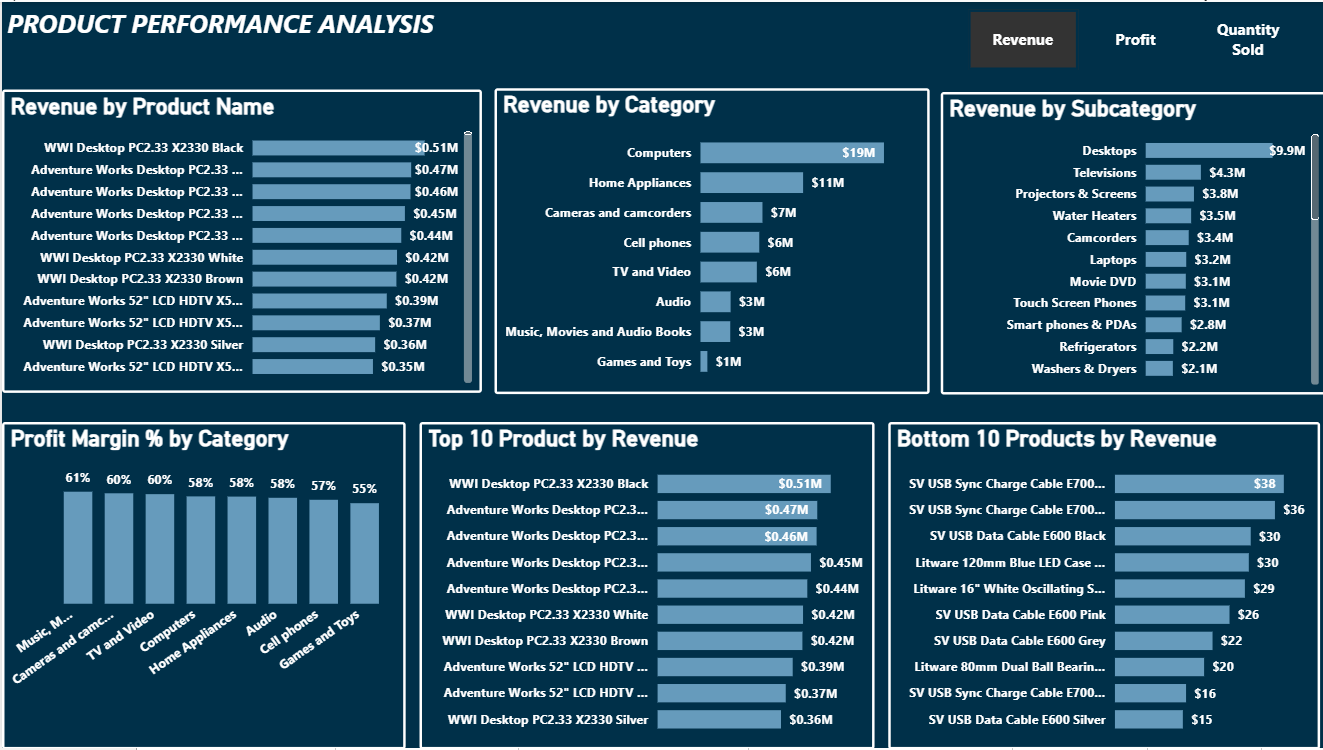

This screenshot's page, from the dashboard's own definition file:
{"tool":"powerbi","page":{"name":"PRODUCT PERFORMANCE","canvas":[1280,720],"ordinal":2},"visuals":[{"type":"clusteredBarChart","title":"Top 10 Product by Revenue","fields":{"Category":["Products.Product Name"],"Y":["Sales.Revenue"]},"box":[403.4,404.8,439.1,315.6],"z":0},{"type":"clusteredBarChart","title":"Bottom 10 Products by Revenue","fields":{"Y":["Sales.Revenue"],"Category":["Products.Product Name"]},"box":[854.9,404.8,417.2,315.6],"z":1000},{"type":"clusteredBarChart","fields":{"Y":["Sales.Revenue"],"Category":["Products.Category"]},"box":[474.8,83.7,419.9,295],"z":2000},{"type":"clusteredBarChart","fields":{"Y":["Sales.Revenue"],"Category":["Products.Subcategory"]},"box":[905.7,86.4,374.6,292.3],"z":3000},{"type":"slicer","fields":{"Values":["Parameter 2.Parameter"]},"box":[906,0,374,72.4],"z":4000},{"type":"textbox","box":[0,0,463.3,72.4],"z":5000},{"type":"clusteredColumnChart","fields":{"Category":["Products.Category"],"Y":["Sales.Profit Margin %"]},"box":[0,404.8,389.7,315.6],"z":6000},{"type":"clusteredBarChart","fields":{"Y":["Sales.Revenue"],"Category":["Products.Product Name"]},"box":[0,84,463,293],"z":7000}]}

Visuals, with their boxes in screenshot pixels (x1, y1, x2, y2), scaled from the page's 1280x720 canvas onto the 1323x750 screenshot:
"Top 10 Product by Revenue" clusteredBarChart: bbox=[417, 422, 871, 749]
"Bottom 10 Products by Revenue" clusteredBarChart: bbox=[884, 422, 1315, 749]
clusteredBarChart - Sales.Revenue x Products.Category: bbox=[491, 87, 925, 394]
clusteredBarChart - Sales.Revenue x Products.Subcategory: bbox=[936, 90, 1322, 394]
slicer - Parameter 2.Parameter: bbox=[936, 0, 1322, 75]
textbox: bbox=[0, 0, 479, 75]
clusteredColumnChart - Products.Category x Sales.Profit Margin %: bbox=[0, 422, 403, 749]
clusteredBarChart - Sales.Revenue x Products.Product Name: bbox=[0, 88, 479, 393]
